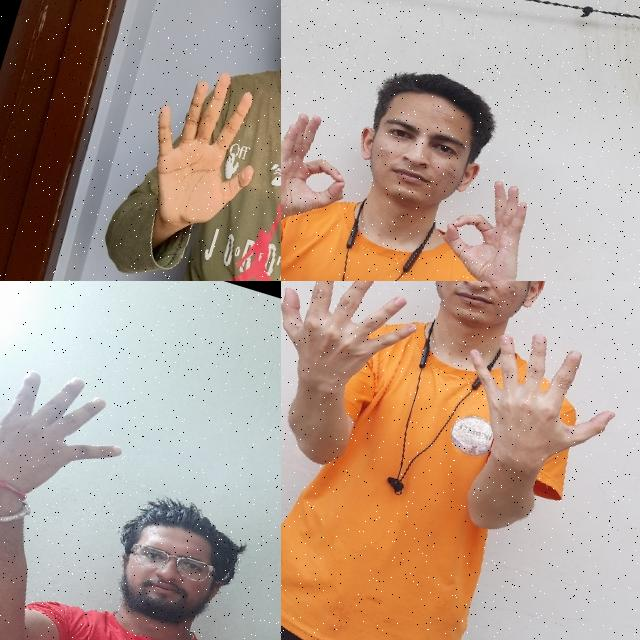Moutza: (432, 305, 640, 499), (119, 46, 281, 261), (0, 341, 151, 555), (281, 281, 435, 424)
Okay: (425, 157, 552, 281), (281, 94, 370, 247)
